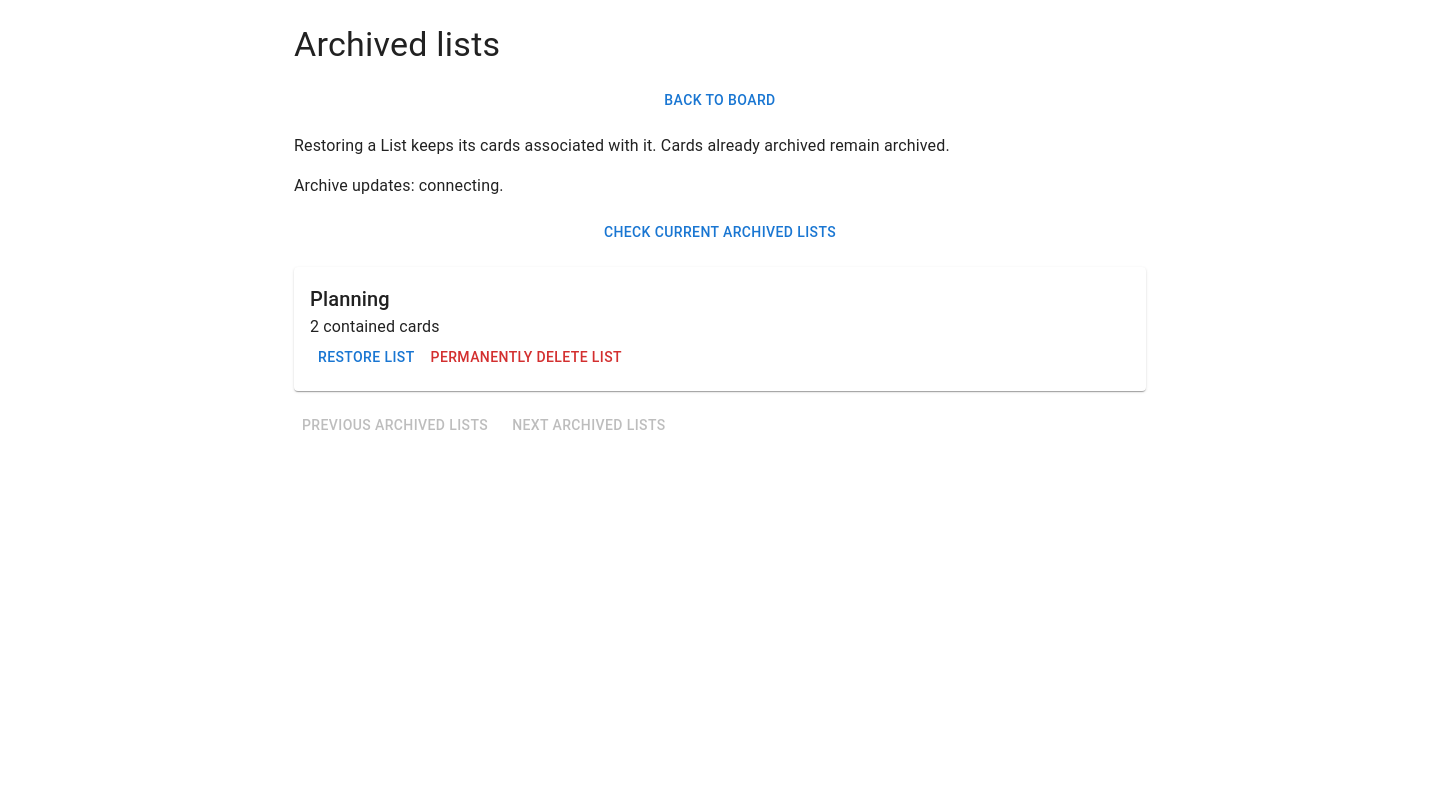
Test case: rejects a mismatched successful acknowledgment: {"id":"20000000-0000-4000-8000-000000000001","organizationId":"10000000-0000-4000-8000-000000000001","boardId":"
Click the button with aria-label "Restore Planning list" at (366, 357), box [310, 339, 422, 376]
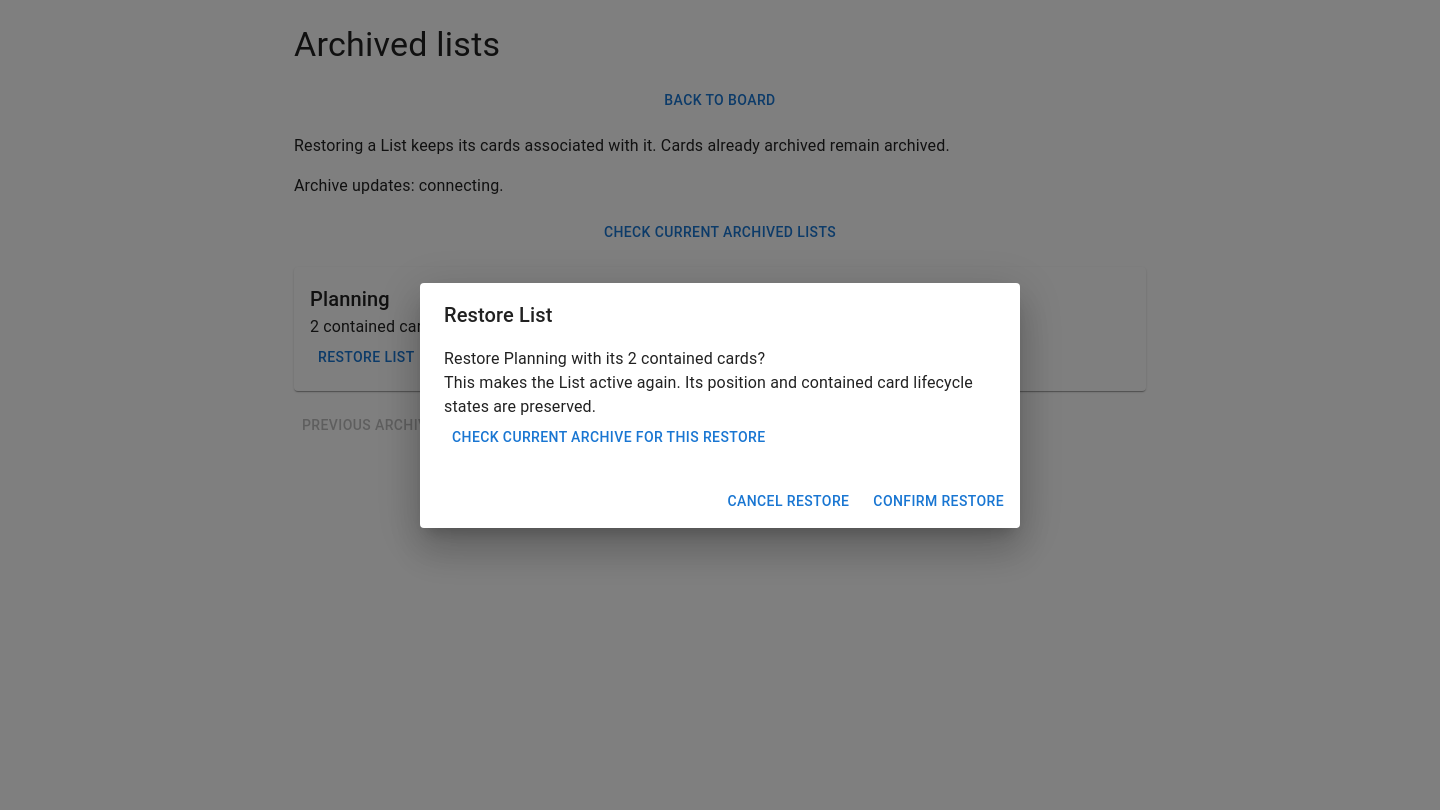
Click the button "Confirm restore" at (939, 501), box [865, 483, 1012, 520]
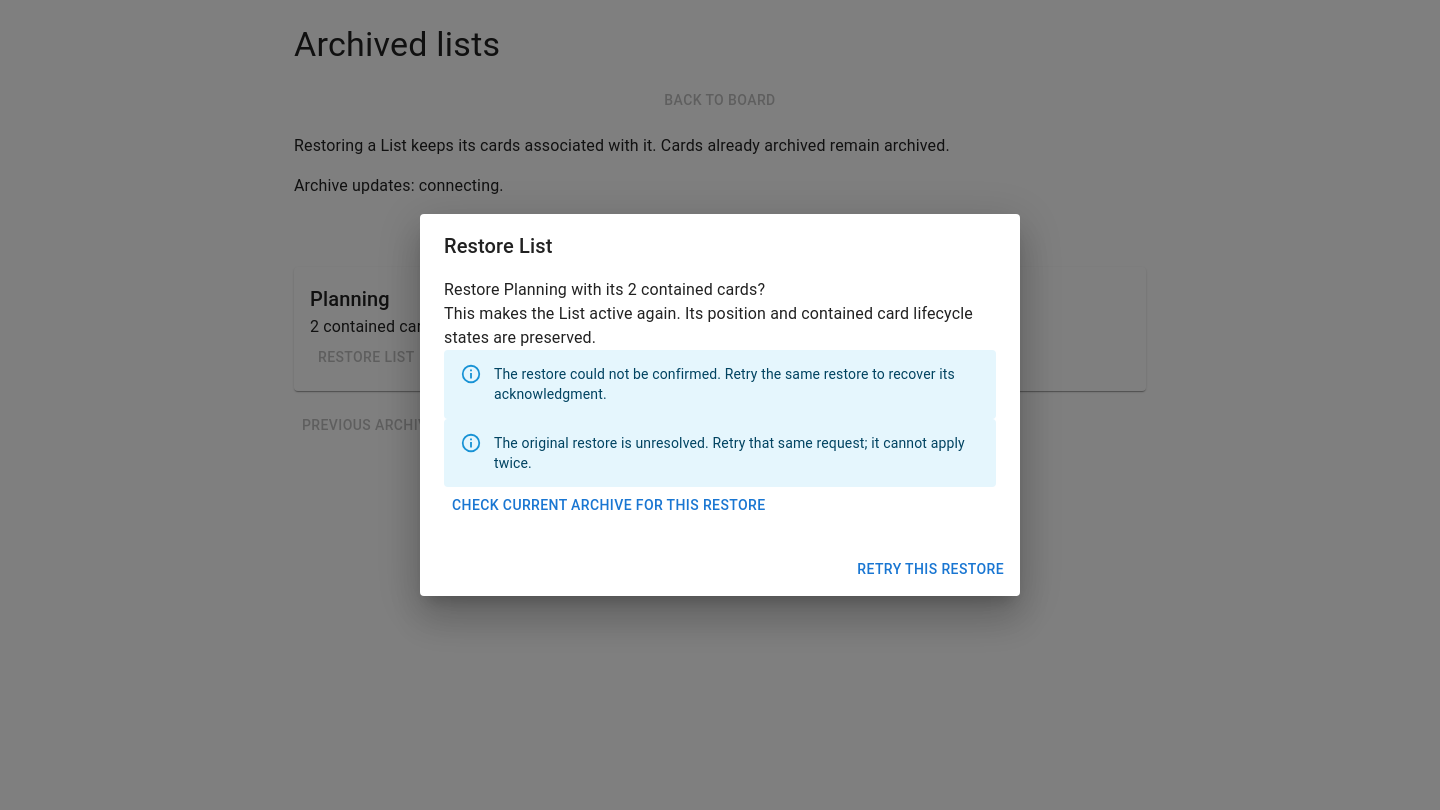
Expected: the button "Retry this restore" is shown, [849, 551, 1012, 588]
